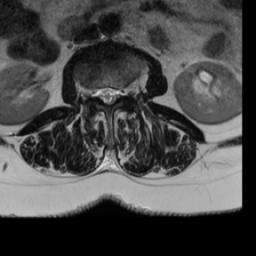CCS_normal: (105, 80, 111, 110)
LFS_normal: (119, 79, 127, 102)
LLS_normal: (111, 81, 118, 107)
RFS_normal: (87, 81, 97, 104)
RLS_normal: (97, 81, 105, 106)
